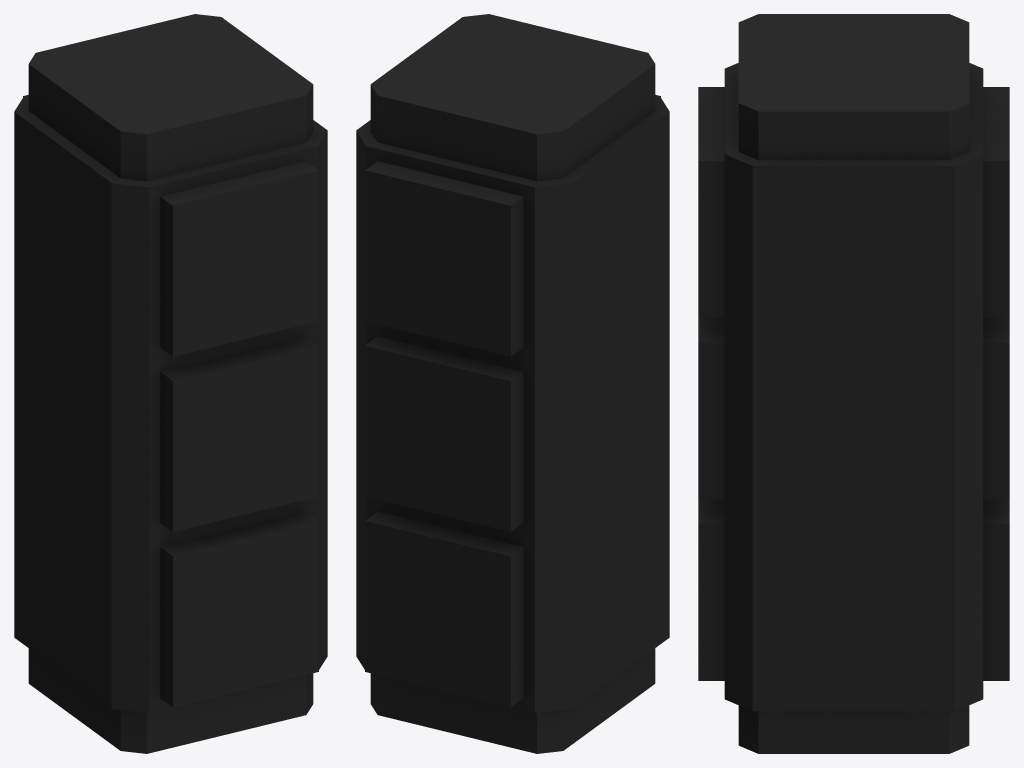
Rendered from Pillar 2.fbx.
The picture shows the model from 3 angles, left to right: view 1: azimuth 30°, elevation 25°; view 2: azimuth 150°, elevation 25°; view 3: azimuth 270°, elevation 25°; orthographic projection. The views are drawn at different scales.
Parts seen in each view (by area): view 1: Pillar014; view 2: Pillar014; view 3: Pillar014.
Boxes of the visible parts, x1=… form: Pillar014: x1=14, y1=14, x2=327, y2=753; Pillar014: x1=356, y1=14, x2=669, y2=753; Pillar014: x1=698, y1=14, x2=1009, y2=753.
Size of the model in its own units: 104 by 285 by 125.
